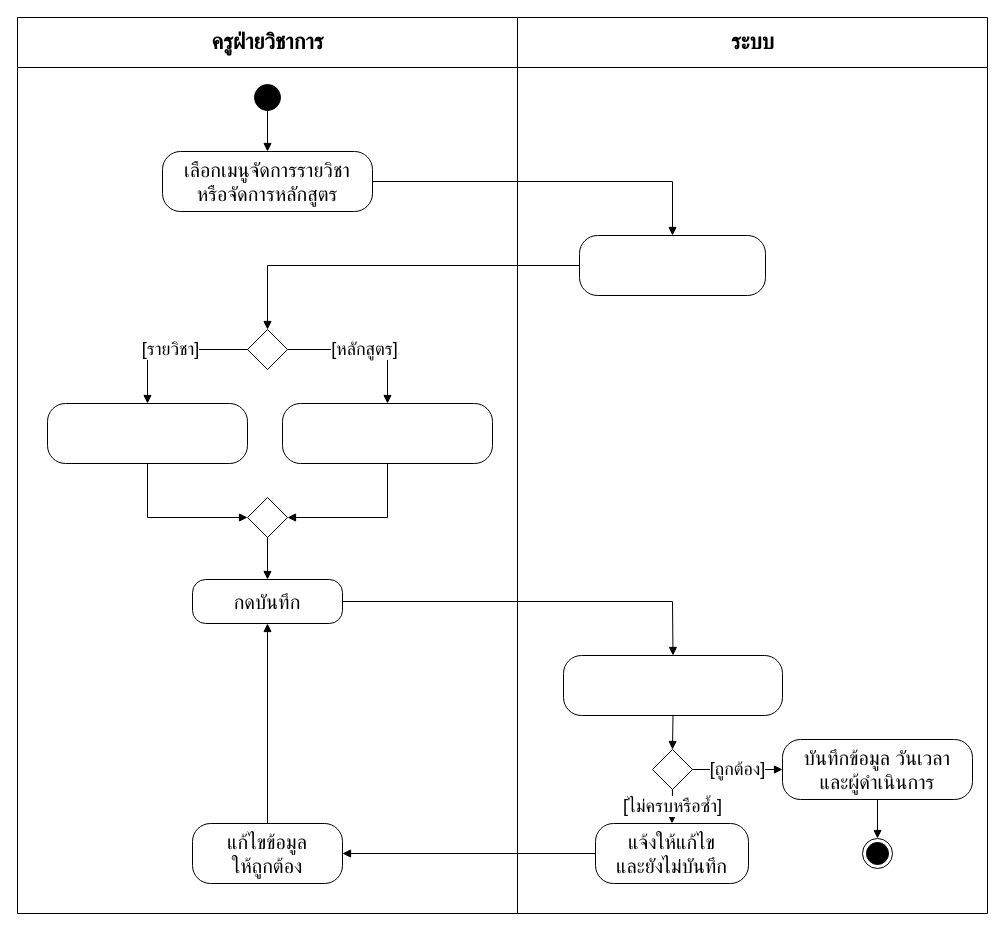
Image size: 1005x931. Some labels were removed from this diagram. Here are the shapes that lost their labels. From the top down, the centre of each, then its label:
At (x=672, y=265): "แสดงรายการกลุ่มสาระ รายวิชา และหลักสูตร".
At (x=147, y=433): "เพิ่ม แก้ไข หรือลบ กลุ่มสาระและรายวิชา".
At (x=387, y=433): "สร้างหรือแก้ไขหลักสูตร และเพิ่มรายวิชาเข้าหลักสูตร".
At (x=672, y=685): "ตรวจสอบความครบถ้วน และความซ้ำซ้อนของข้อมูล".
